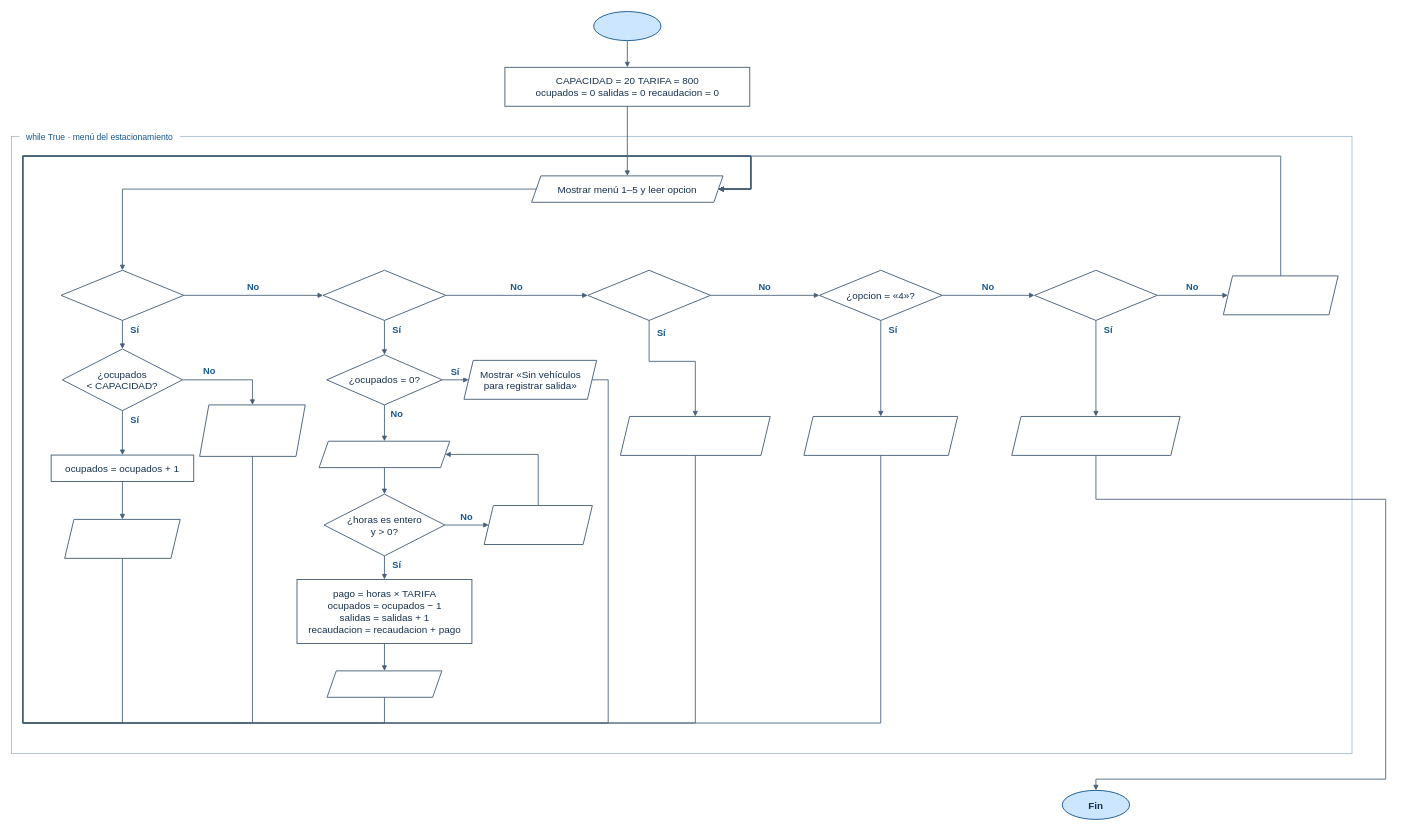
Some shapes in this 1403 by 832 pixel diagram are drawn without their labels. Here are the shapes that lost their labels. From the top down, the centre of each, then its label:
At (627,26): "Inicio".
At (122,295): "¿opcion = «1»?".
At (384,295): "¿opcion = «2»?".
At (649,295): "¿opcion = «3»?".
At (1095,295): "¿opcion = «5»?".
At (1280,295): "Mostrar «Opción inválida»".
At (252,430): "Mostrar «Estacionamiento lleno»".
At (695,436): "Mostrar ocupados y CAPACIDAD − ocupados".
At (880,436): "Mostrar recaudacion (₡) y salidas".
At (1095,436): "Mostrar resumen final: ocupados, salidas y recaudacion".
At (384,454): "Leer horas por cobrar".
At (122,538): "Mostrar «Ingreso registrado»".
At (537,525): "Mostrar «Horas inválidas»".
At (384,683): "Mostrar pago (₡)".
